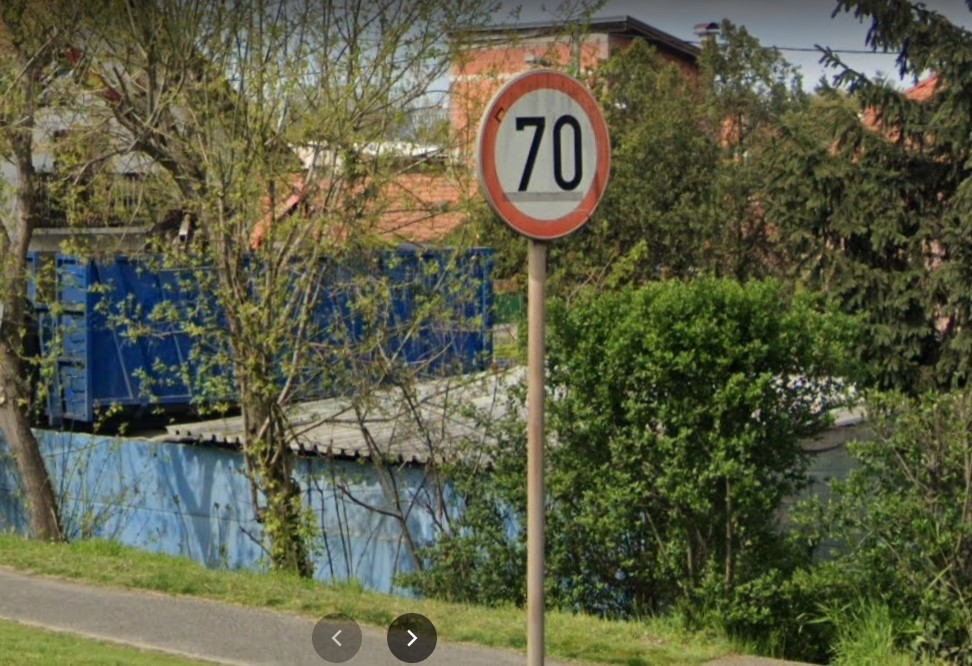Ograničenje brzine 70: (478, 68, 612, 241)
